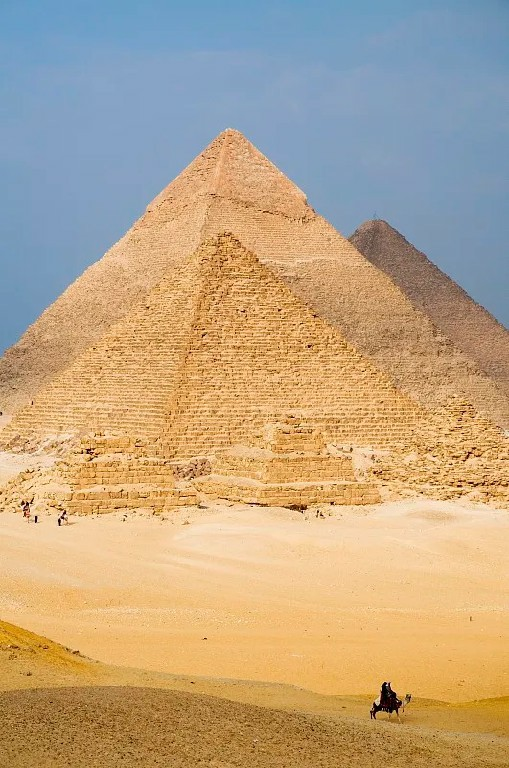Pyramid: (3, 127, 509, 425), (5, 232, 438, 447), (348, 220, 509, 394), (201, 413, 383, 509), (6, 432, 199, 512), (373, 395, 509, 502)
